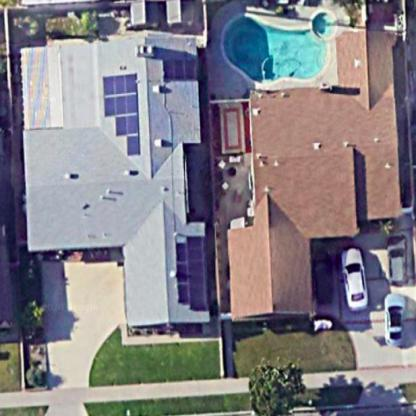car: (334, 245, 373, 314), (381, 292, 410, 354), (382, 232, 411, 284), (314, 248, 336, 308)
solar_panel: (98, 67, 149, 163), (171, 228, 212, 317), (154, 48, 195, 87)
swimming_pool: (211, 10, 341, 94)
